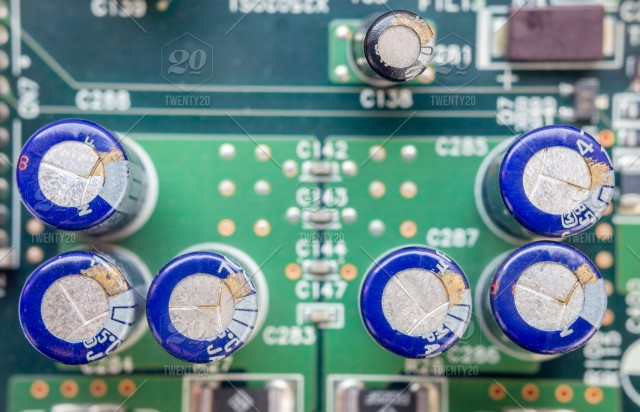capacitor: (325, 230, 476, 369), (480, 232, 620, 368), (13, 115, 149, 243), (145, 242, 272, 367), (15, 245, 135, 371), (486, 112, 613, 231), (366, 11, 430, 97)
